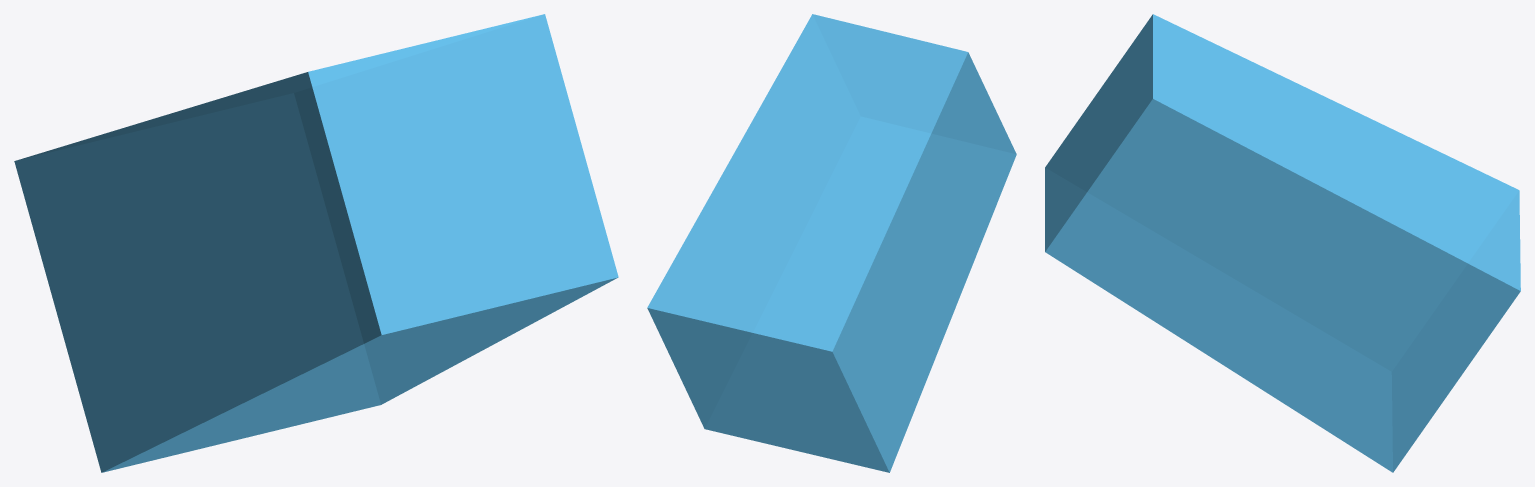
Rendered from Event_421127236_HBrechit_0.fbx.
3 views of the same model, side by side, from view 1: azimuth 30°, elevation 25°; view 2: azimuth 150°, elevation 25°; view 3: azimuth 270°, elevation 25° (orthographic). The views are drawn at different scales.
Visible parts, largest first — view 1: Model; view 2: Model; view 3: Model.
Boxes of the visible parts, bbox=[...] form: Model: bbox=[14, 14, 618, 472]; Model: bbox=[647, 14, 1016, 472]; Model: bbox=[1045, 14, 1520, 472].
Bounding box in the file's own units: 0.4748 × 0.8263 × 0.952.
